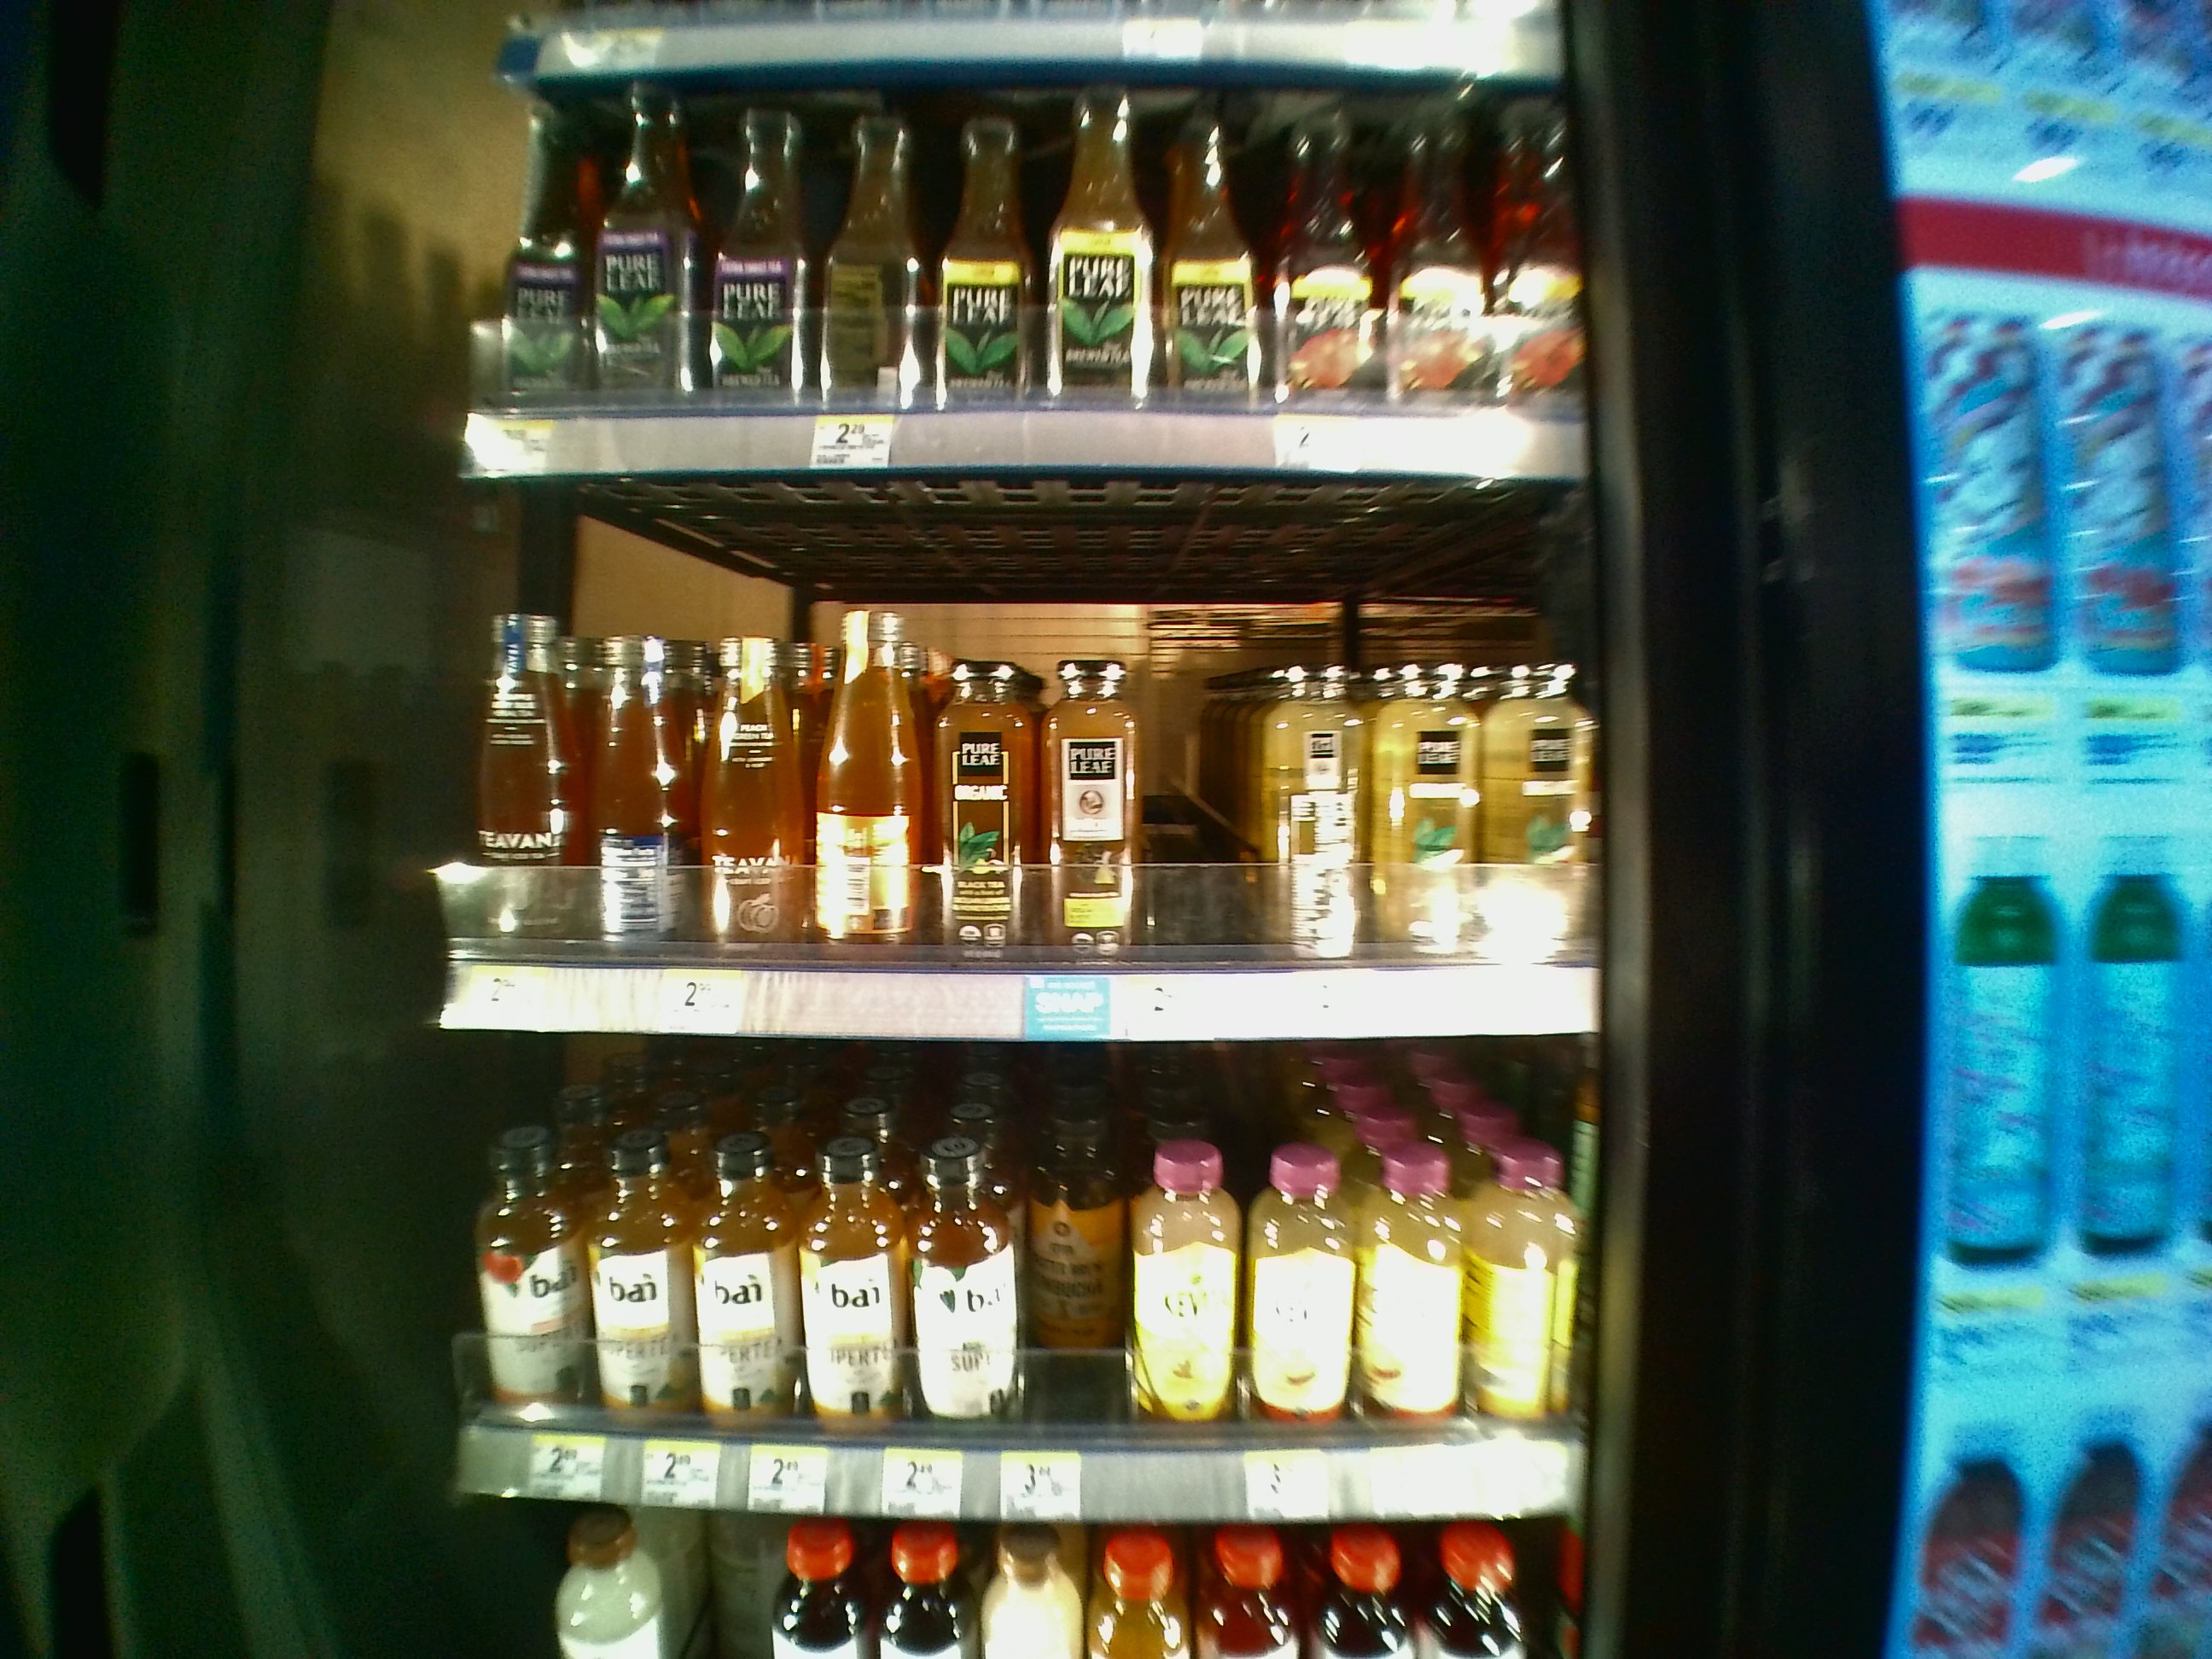shelf: (435, 493, 1611, 1028), (455, 1053, 1604, 1509), (456, 63, 1581, 476)
